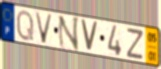4: (107, 24, 123, 57)
N: (57, 15, 80, 52)
Q: (16, 9, 35, 43)
V: (34, 11, 55, 46), (79, 18, 99, 54)
Z: (125, 27, 145, 61)
